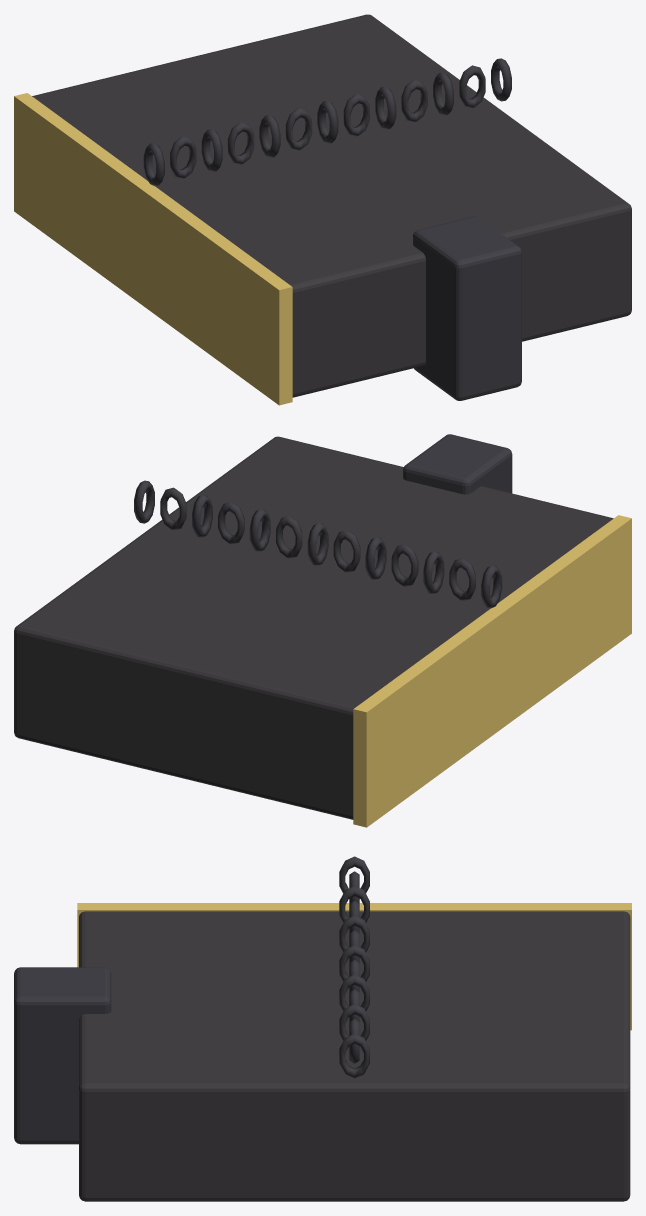
Rendered from grimoire_chained.glb.
The picture shows the model from 3 angles, top to bottom: view 1: azimuth 30°, elevation 25°; view 2: azimuth 150°, elevation 25°; view 3: azimuth 270°, elevation 25°; orthographic projection. The views are drawn at different scales.
Parts seen in each view (by area): view 1: GD_grimoire_chained__m0, GD_grimoire_chained__m3, GD_grimoire_chained__m2; view 2: GD_grimoire_chained__m0, GD_grimoire_chained__m3, GD_grimoire_chained__m2; view 3: GD_grimoire_chained__m0, GD_grimoire_chained__m2, GD_grimoire_chained__m3.
Boxes of the visible parts, x1,y1,x2,y2 form: GD_grimoire_chained__m0: [32, 14, 631, 397]; GD_grimoire_chained__m3: [14, 93, 292, 405]; GD_grimoire_chained__m2: [143, 58, 521, 400]; GD_grimoire_chained__m0: [14, 436, 613, 819]; GD_grimoire_chained__m3: [353, 515, 631, 827]; GD_grimoire_chained__m2: [134, 434, 512, 608]; GD_grimoire_chained__m0: [79, 911, 630, 1201]; GD_grimoire_chained__m2: [14, 856, 369, 1144]; GD_grimoire_chained__m3: [77, 903, 631, 1030].
Bounding box in the file's own units: 0.2674 × 0.1254 × 0.381.
